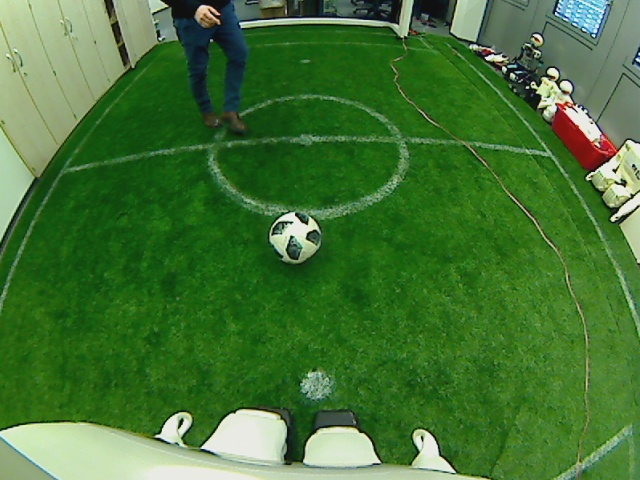ball: (266, 210, 323, 264)
